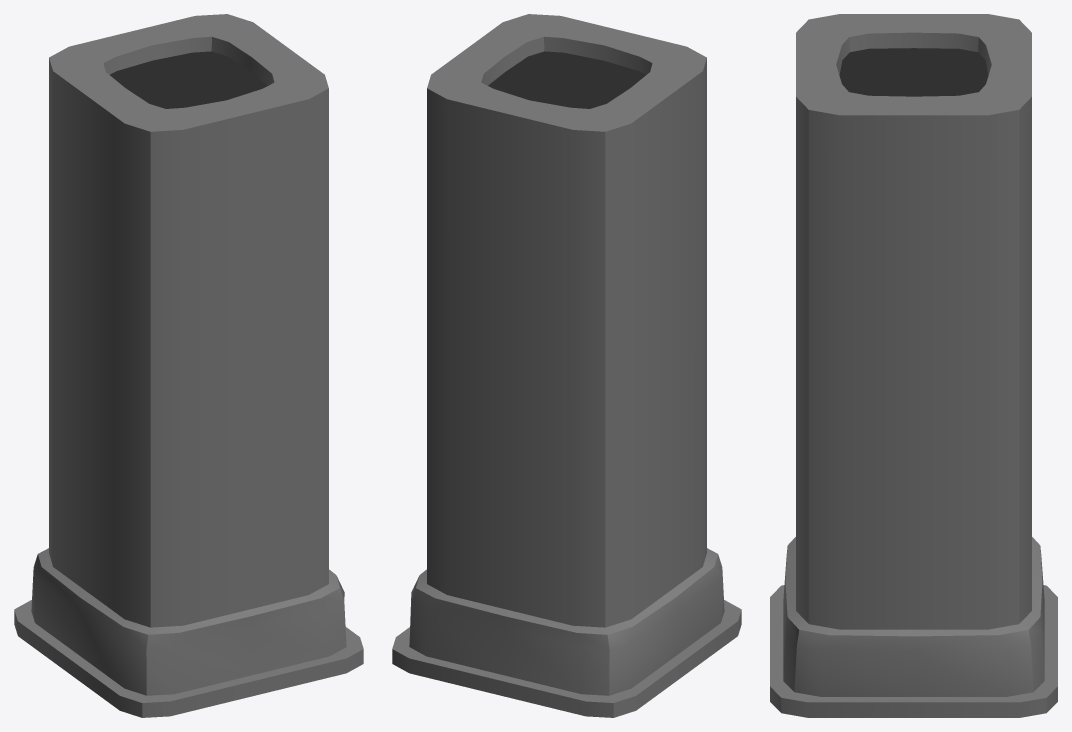
Rendered from GAMEJAMHERO - Prop(Pillar).fbx.
The picture shows the model from 3 angles, left to right: view 1: azimuth 30°, elevation 25°; view 2: azimuth 150°, elevation 25°; view 3: azimuth 270°, elevation 25°; orthographic projection. The views are drawn at different scales.
Parts seen in each view (by area): view 1: Cube.022; view 2: Cube.022; view 3: Cube.022.
Boxes of the visible parts, x1,y1,x2,y2 form: Cube.022: [14, 14, 363, 717]; Cube.022: [392, 14, 741, 717]; Cube.022: [770, 14, 1057, 717].
Bounding box in the file's own units: 220 × 500 × 220.
1 material, 1 textured.
